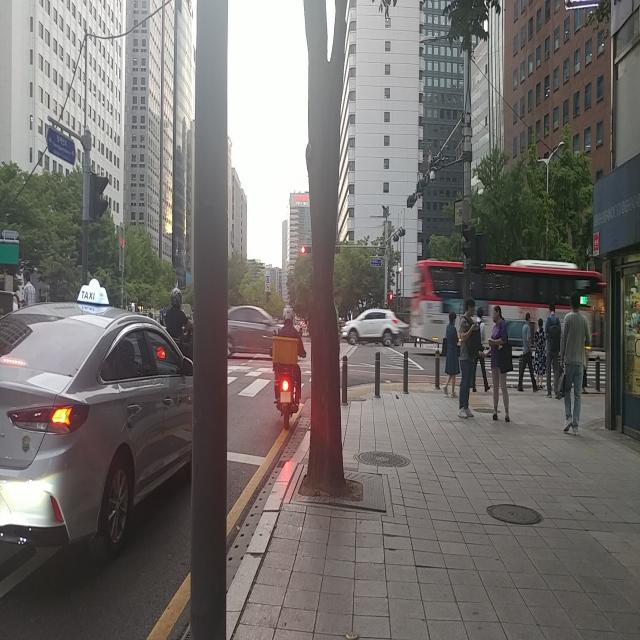횡단보도: (424, 346, 606, 387)
